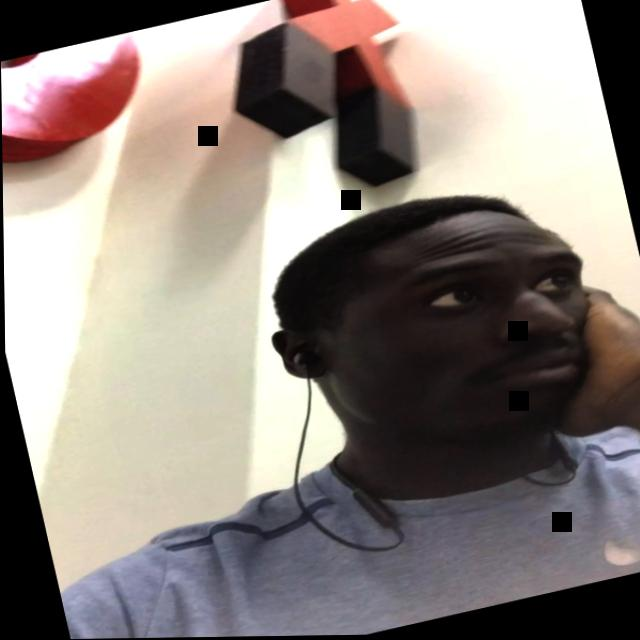NO-Mask: (284, 209, 621, 485)
